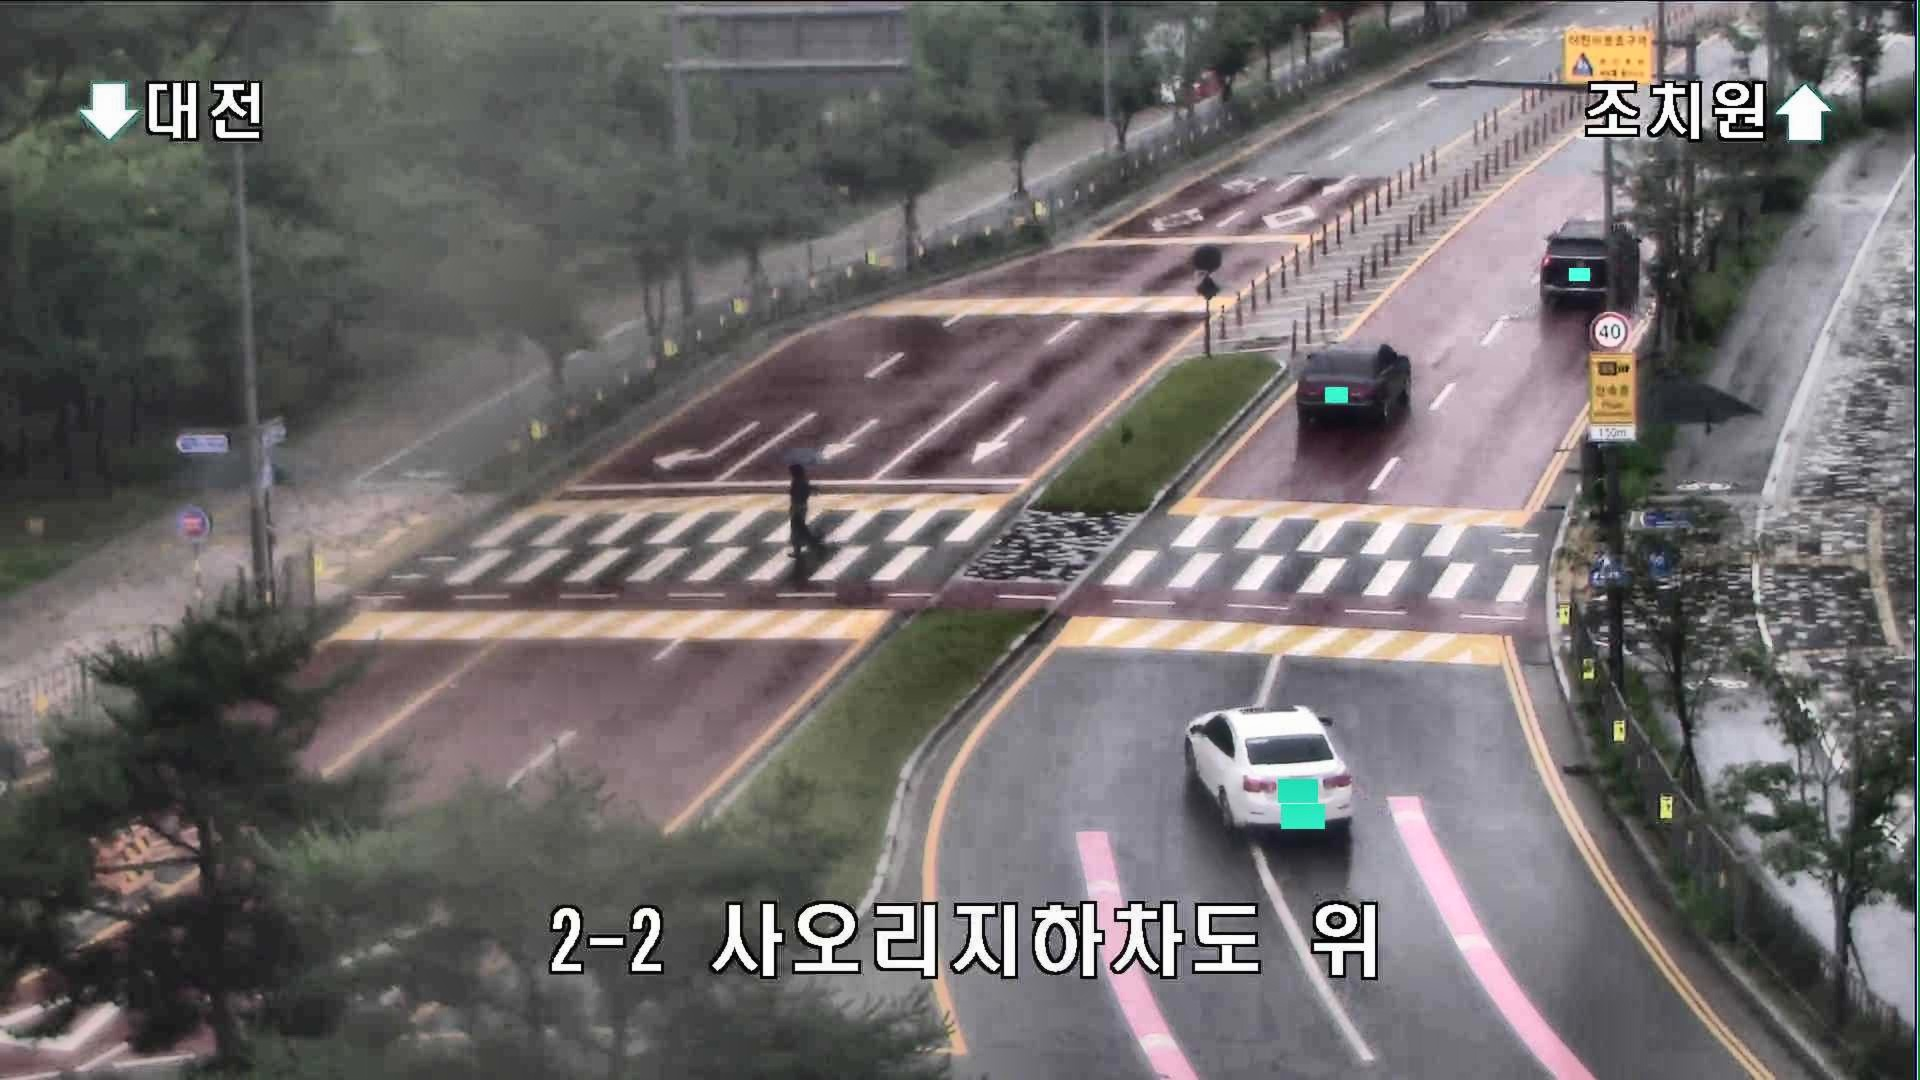um_crosswalk: (770, 444, 833, 560)
